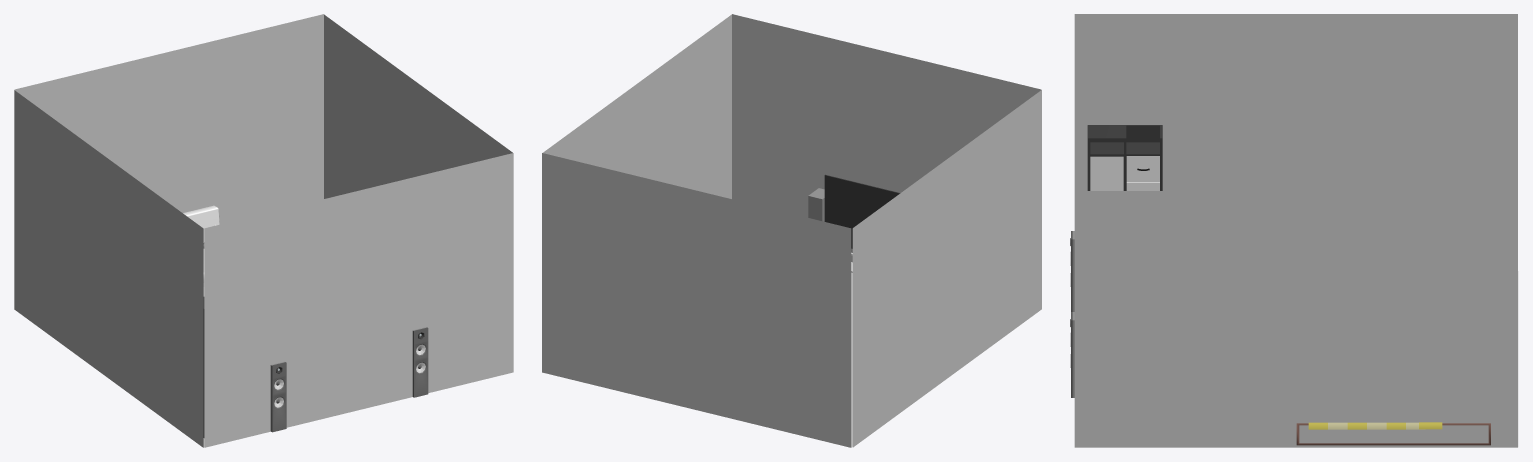
Rendered from light_pendant.fbx.
3 views of the same model, side by side, from view 1: azimuth 30°, elevation 25°; view 2: azimuth 150°, elevation 25°; view 3: azimuth 270°, elevation 25° (orthographic). The views are drawn at different scales.
Visible parts, largest first — view 1: Plane.001, Plane.003, Plane.002, Plane.004, tv_wall_001, sofa_001; view 2: Plane.002, Plane.003, Plane.001, Plane.004, tv_wall_001; view 3: Plane.004, Plane.003, closet_001, bed_001, tv_wall_001.
Boxes of the visible parts, left/top/right/bottom form: Plane.001: left=204, top=153, right=513, bottom=447; Plane.003: left=14, top=90, right=203, bottom=447; Plane.002: left=14, top=14, right=323, bottom=224; Plane.004: left=324, top=14, right=512, bottom=198; tv_wall_001: left=270, top=327, right=428, bottom=432; sofa_001: left=183, top=205, right=219, bottom=286; Plane.002: left=542, top=153, right=851, bottom=447; Plane.003: left=852, top=90, right=1041, bottom=447; Plane.001: left=732, top=14, right=1041, bottom=262; Plane.004: left=543, top=14, right=731, bottom=198; tv_wall_001: left=808, top=174, right=900, bottom=272; Plane.004: left=1074, top=191, right=1517, bottom=447; Plane.003: left=1074, top=14, right=1517, bottom=190; closet_001: left=1087, top=125, right=1162, bottom=190; bed_001: left=1296, top=422, right=1490, bottom=445; tv_wall_001: left=1070, top=231, right=1074, bottom=397.
Bounding box in the file's own units: 874 × 595 × 933.
